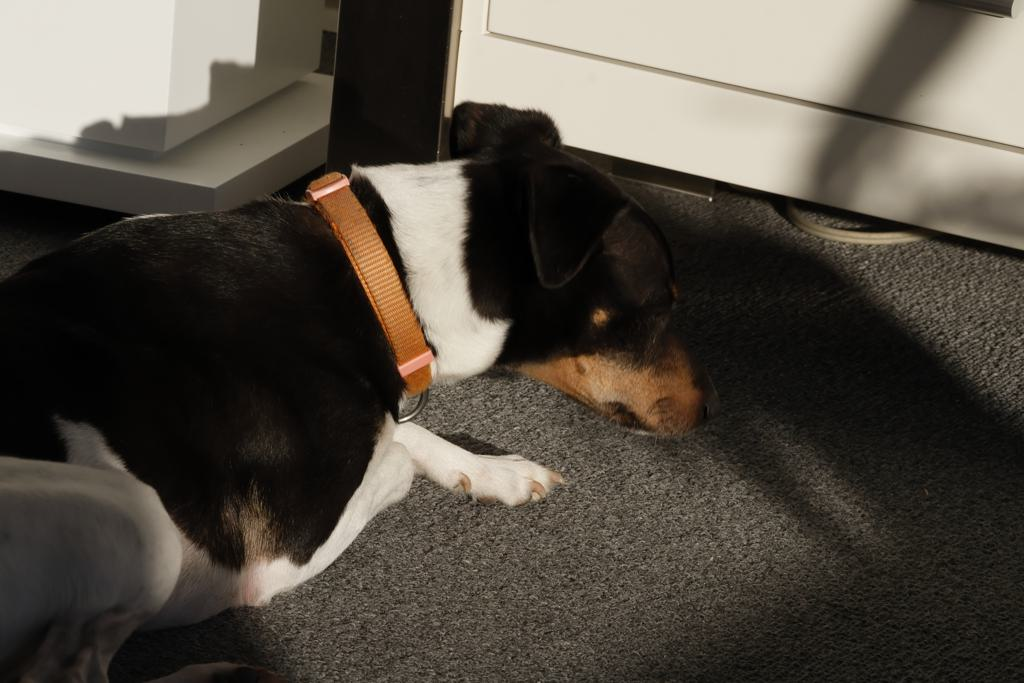Dog: (0, 93, 745, 683)
